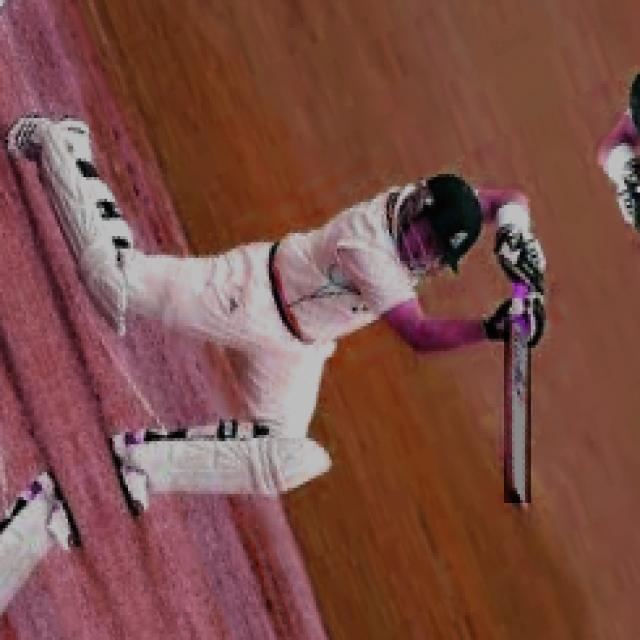bat: (501, 306, 534, 504)
toe: (507, 485, 533, 501)
